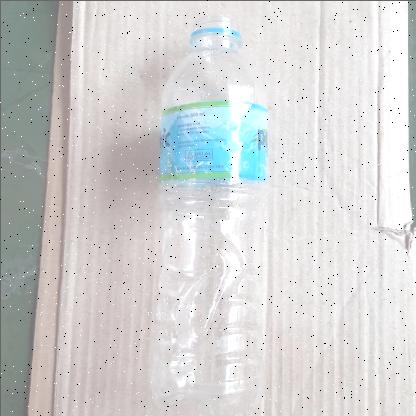Plastic Bottle: (148, 6, 278, 412)
